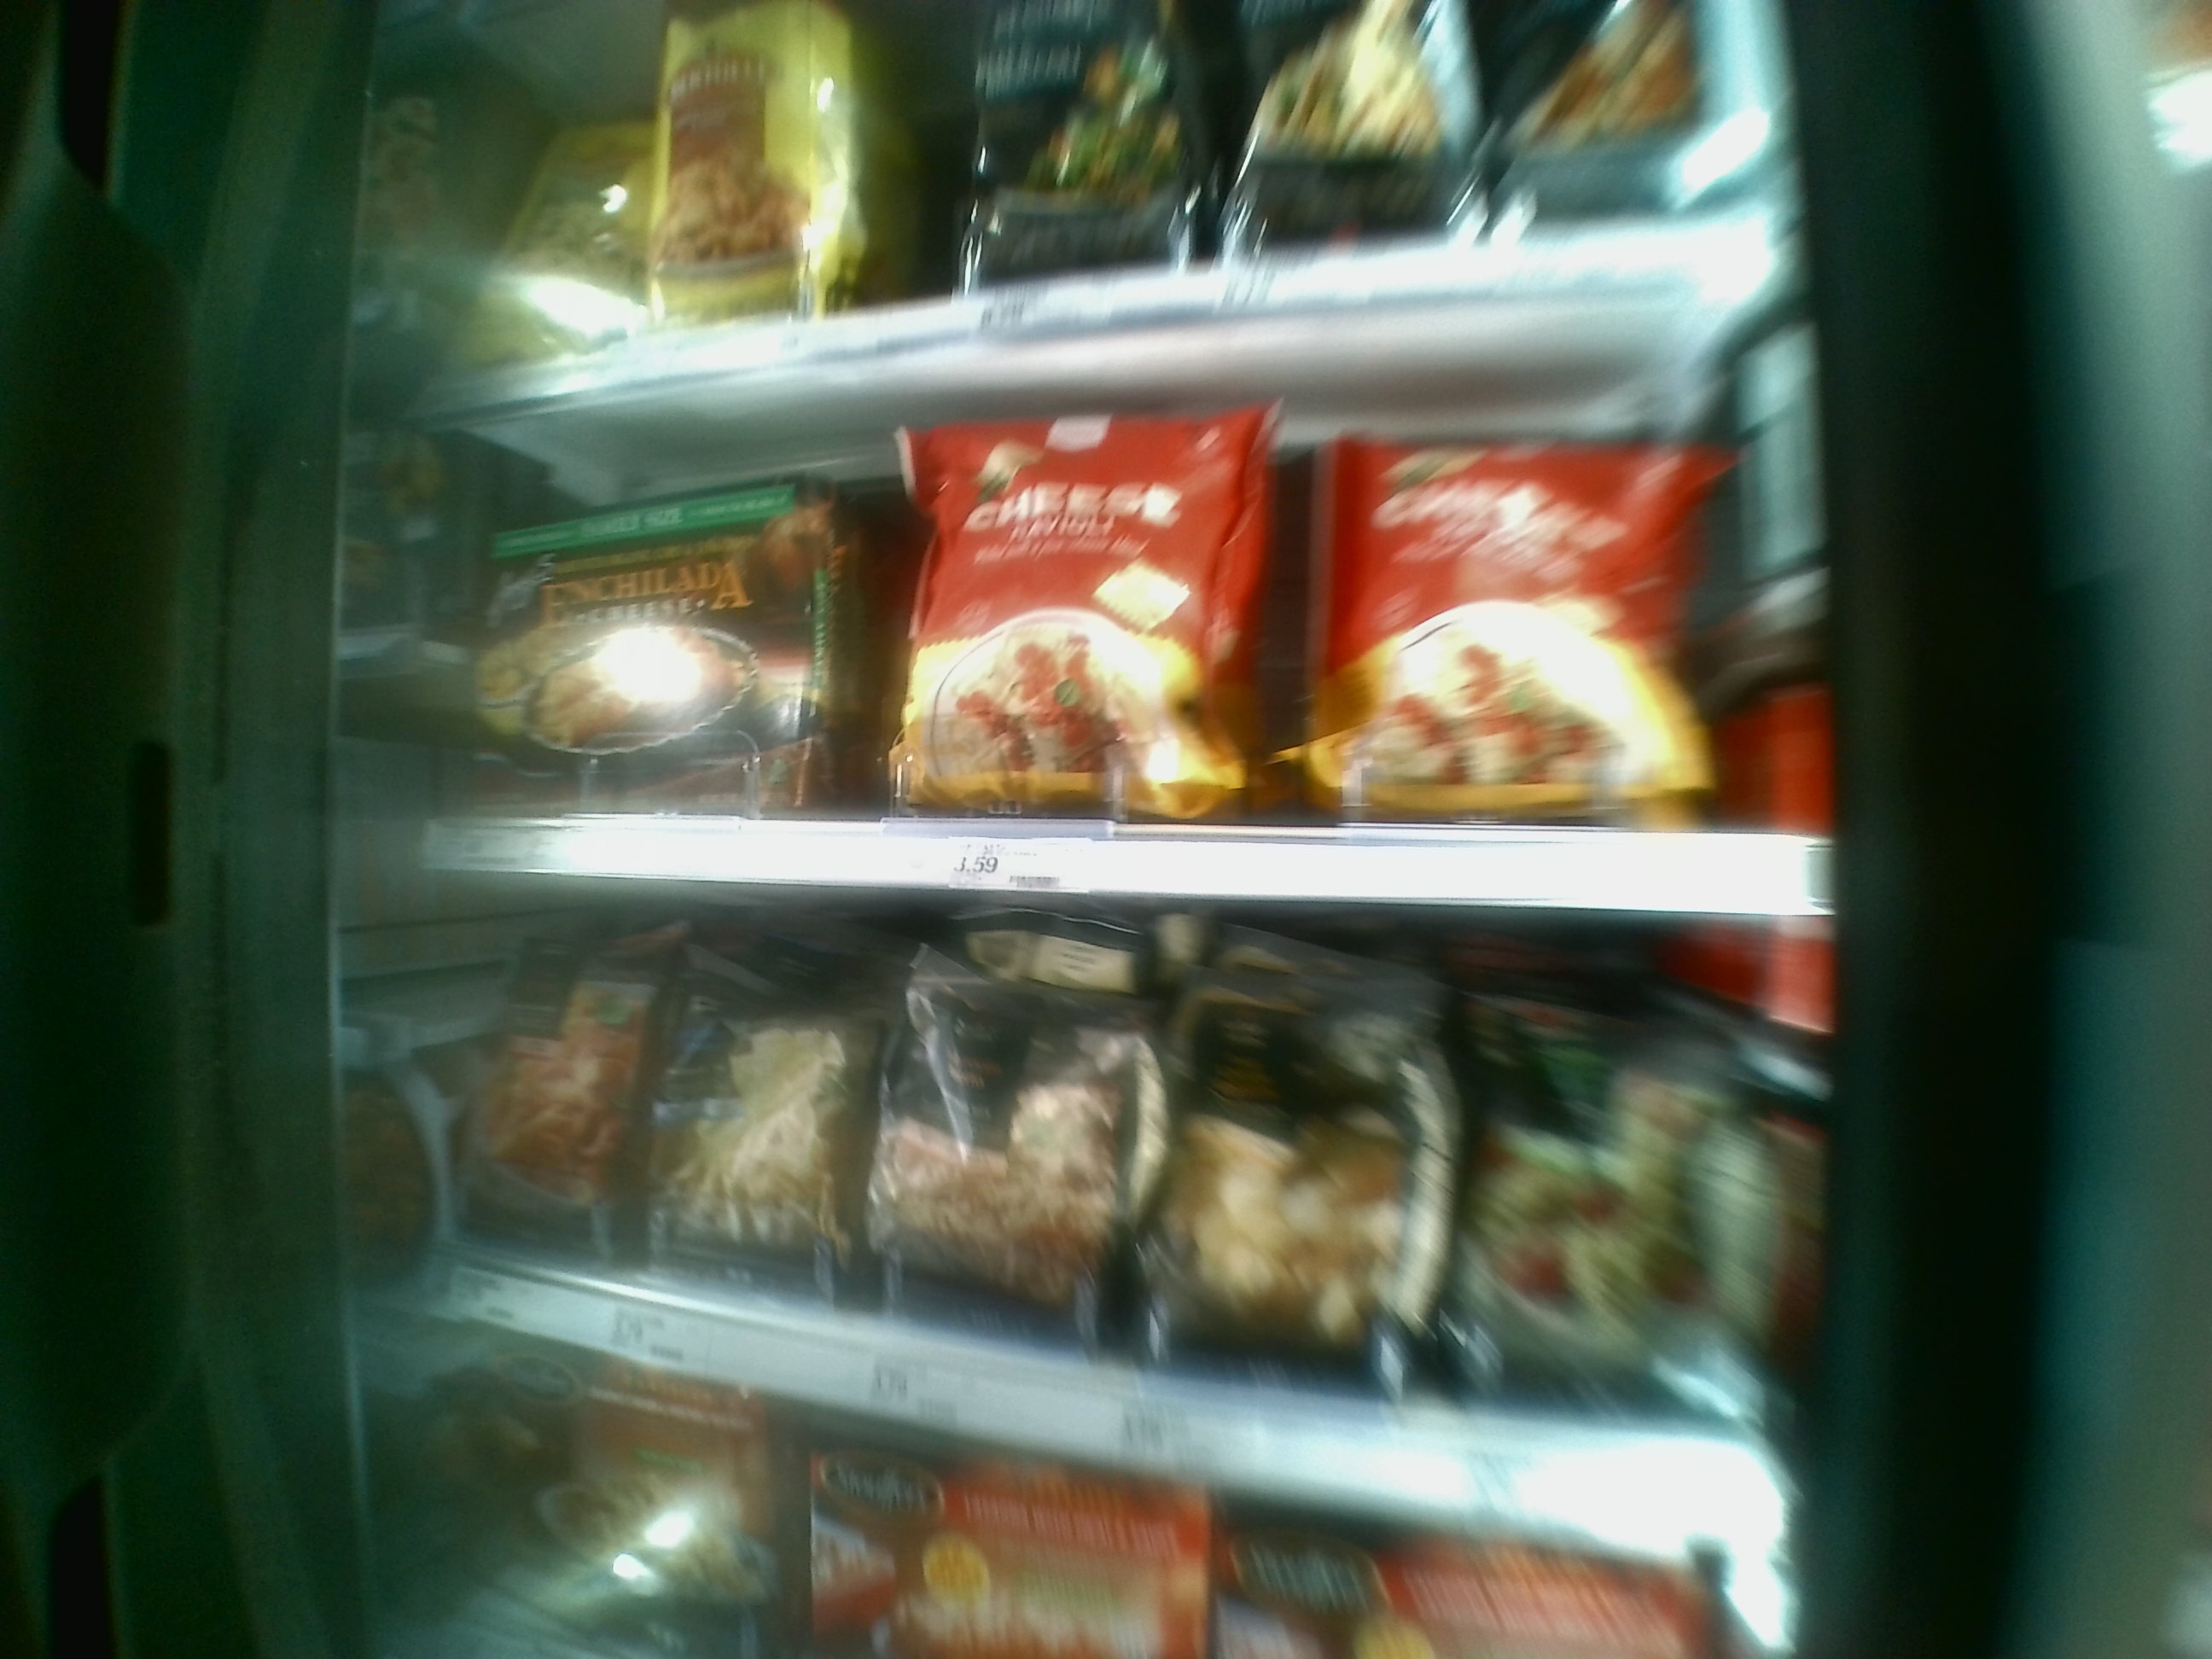shelf: (359, 296, 1846, 918)
